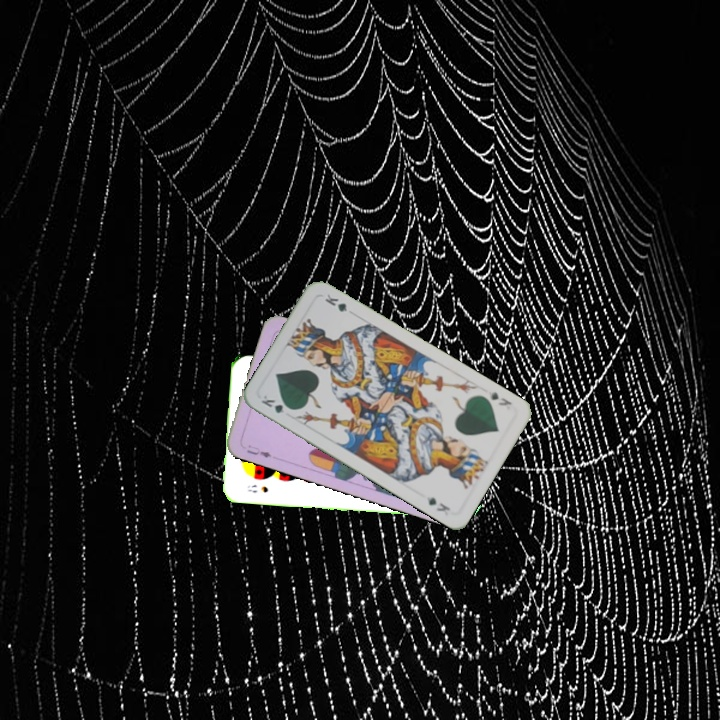EU: (243, 441, 274, 460)
GK: (257, 391, 296, 416), (487, 388, 514, 408)
S8: (243, 481, 270, 495)
